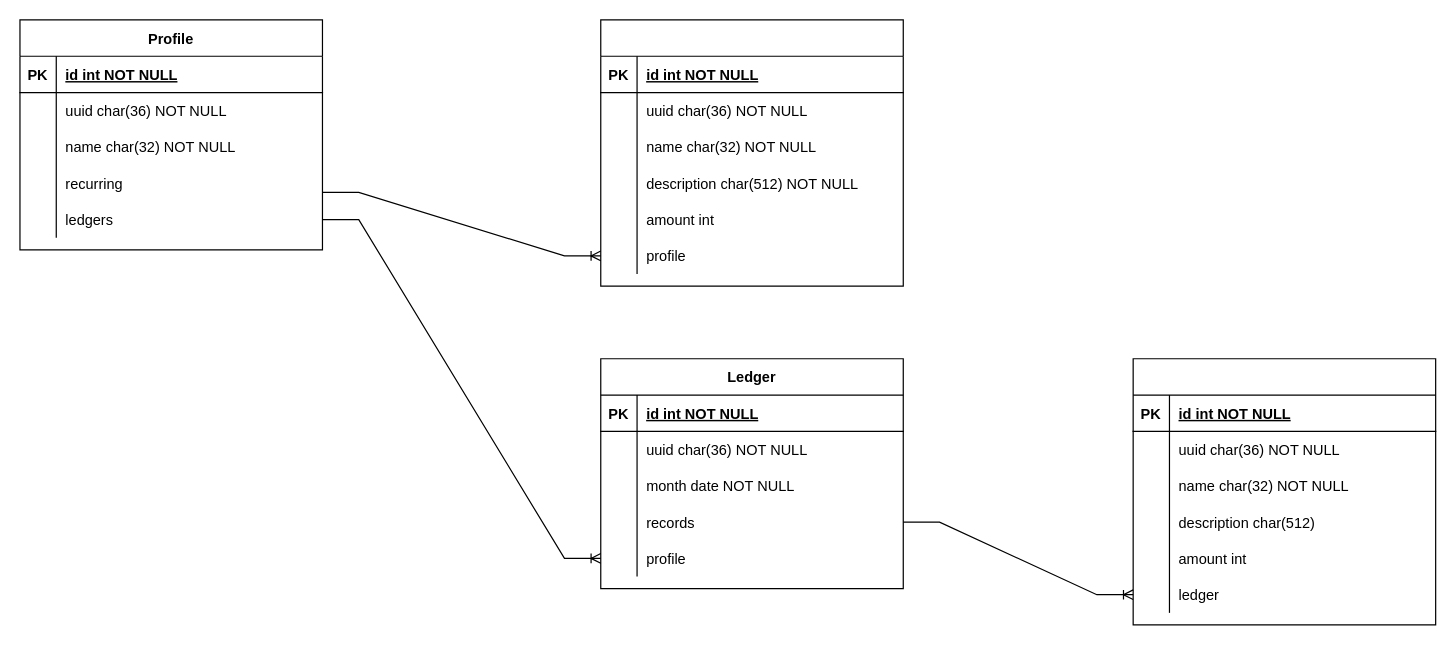
Some shapes in this 1456 by 645 pixel diagram are drawn without their labels. The shapes that lost their labels are listed below. From the top down, each one's box as (x1, y1, x2, y2) in pixels, then its label:
(600, 19, 903, 286): RecurringRecord
(1132, 358, 1436, 625): Record
